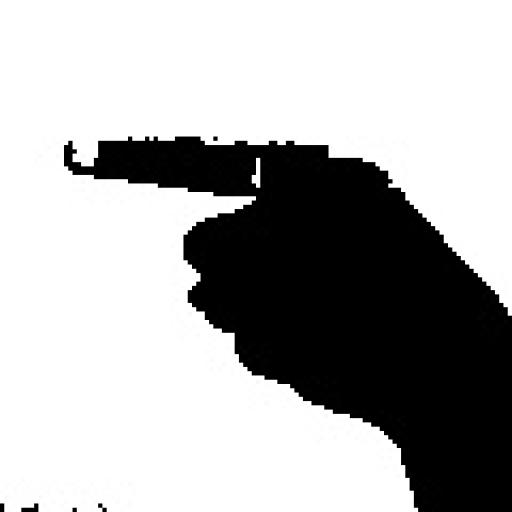index_left: (62, 134, 512, 354)
